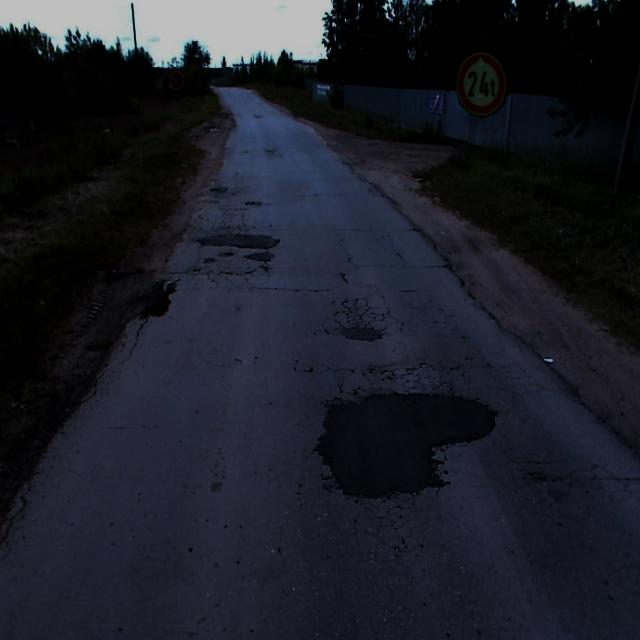road: (0, 85, 639, 639)
